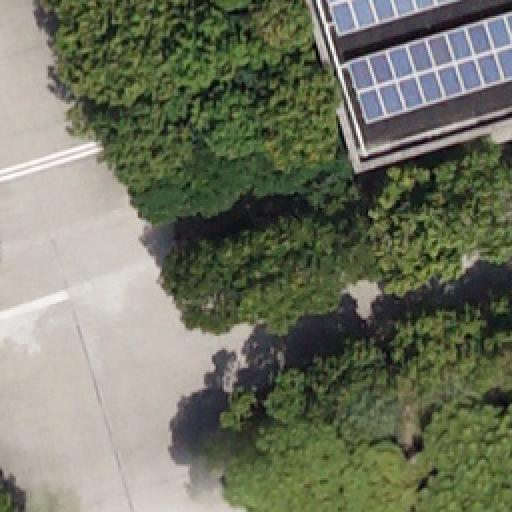solar-panel: (345, 10, 511, 126), (325, 1, 459, 39)
